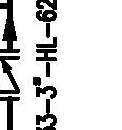verticaltext: (32, 1, 58, 130)
